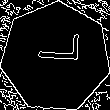L_W: (30, 40, 81, 74)
